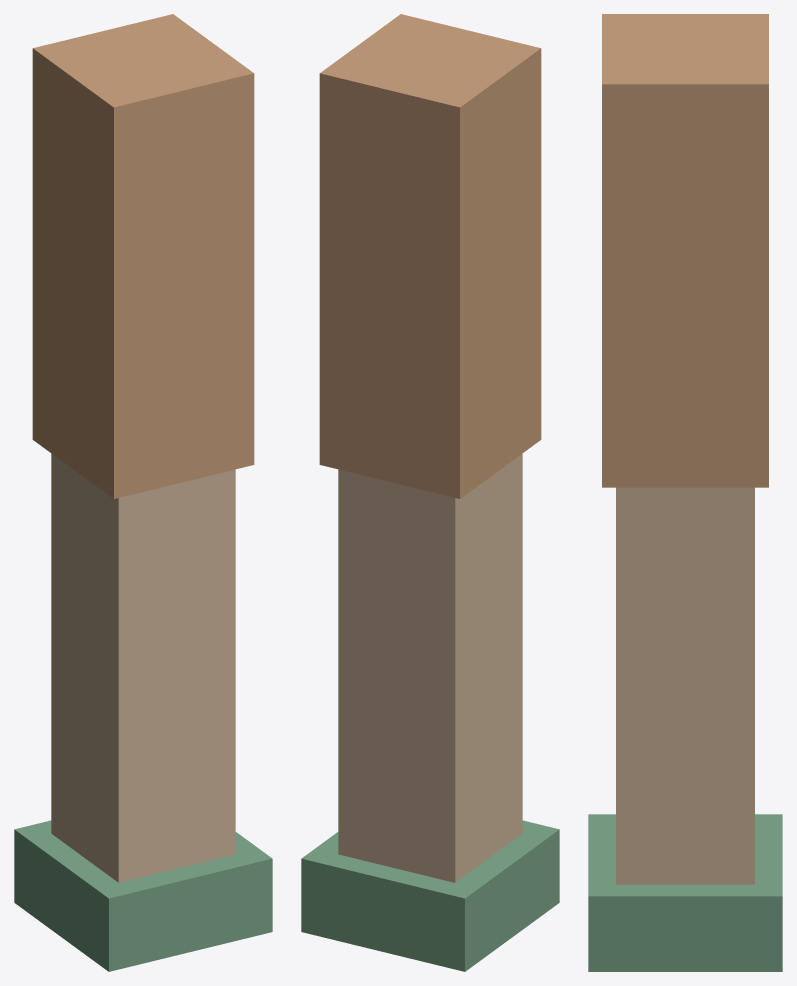
Rendered from limb.glb.
3 views of the same model, side by side, from view 1: azimuth 30°, elevation 25°; view 2: azimuth 150°, elevation 25°; view 3: azimuth 270°, elevation 25° (orthographic). The views are drawn at different scales.
Parts seen in each view (by area): view 1: upper, lower, hand; view 2: upper, lower, hand; view 3: upper, lower, hand.
Boxes of the visible parts, box(x1,y1,x2,y2) form: upper: box(32, 14, 254, 498); lower: box(51, 453, 235, 882); hand: box(14, 820, 272, 971); upper: box(319, 14, 541, 498); lower: box(338, 453, 522, 882); hand: box(301, 820, 559, 971); upper: box(602, 14, 768, 487); lower: box(616, 487, 754, 884); hand: box(588, 814, 782, 971).
Bounding box in the file's own units: 0.4375 × 2.19 × 0.4375.
